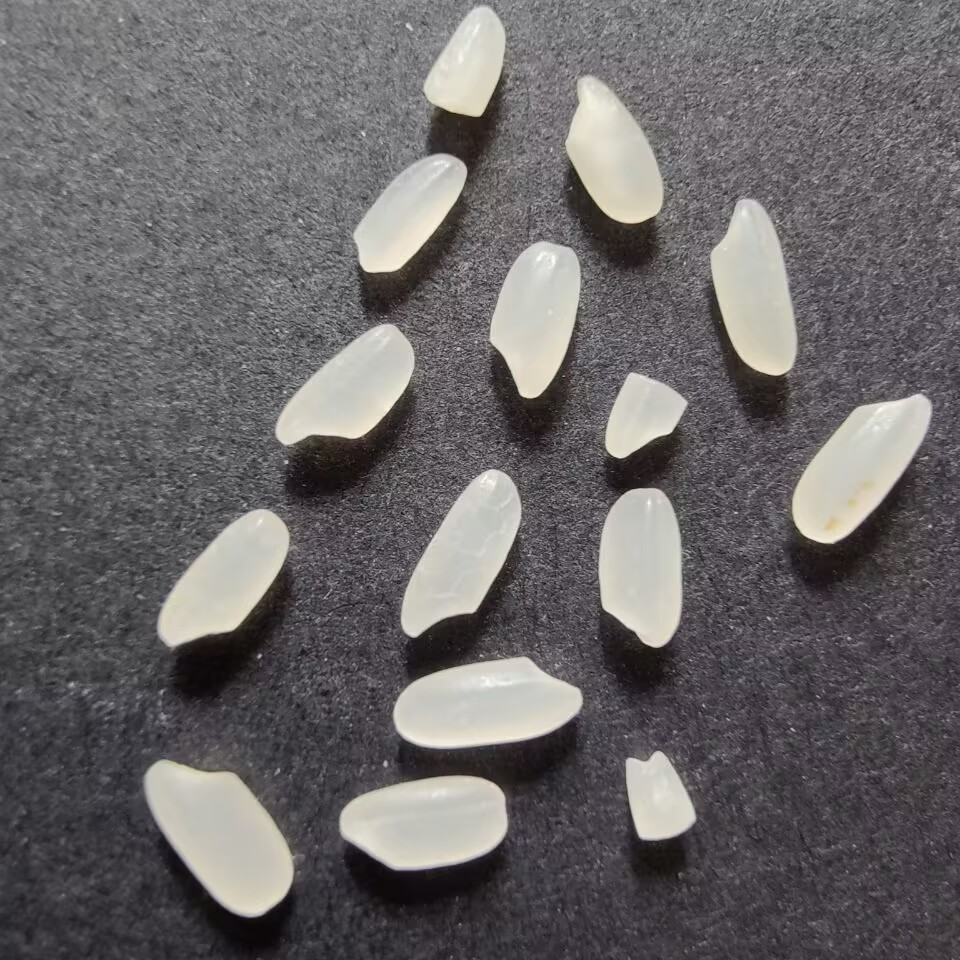broken: (418, 3, 511, 125), (599, 364, 696, 462), (618, 744, 704, 849)
rice: (136, 753, 299, 923), (786, 386, 937, 547), (395, 465, 526, 648), (151, 507, 296, 656), (268, 318, 421, 456), (388, 651, 590, 755), (331, 771, 516, 878), (705, 196, 807, 383), (558, 66, 667, 226), (485, 238, 584, 405), (346, 150, 473, 280), (594, 483, 686, 652)
